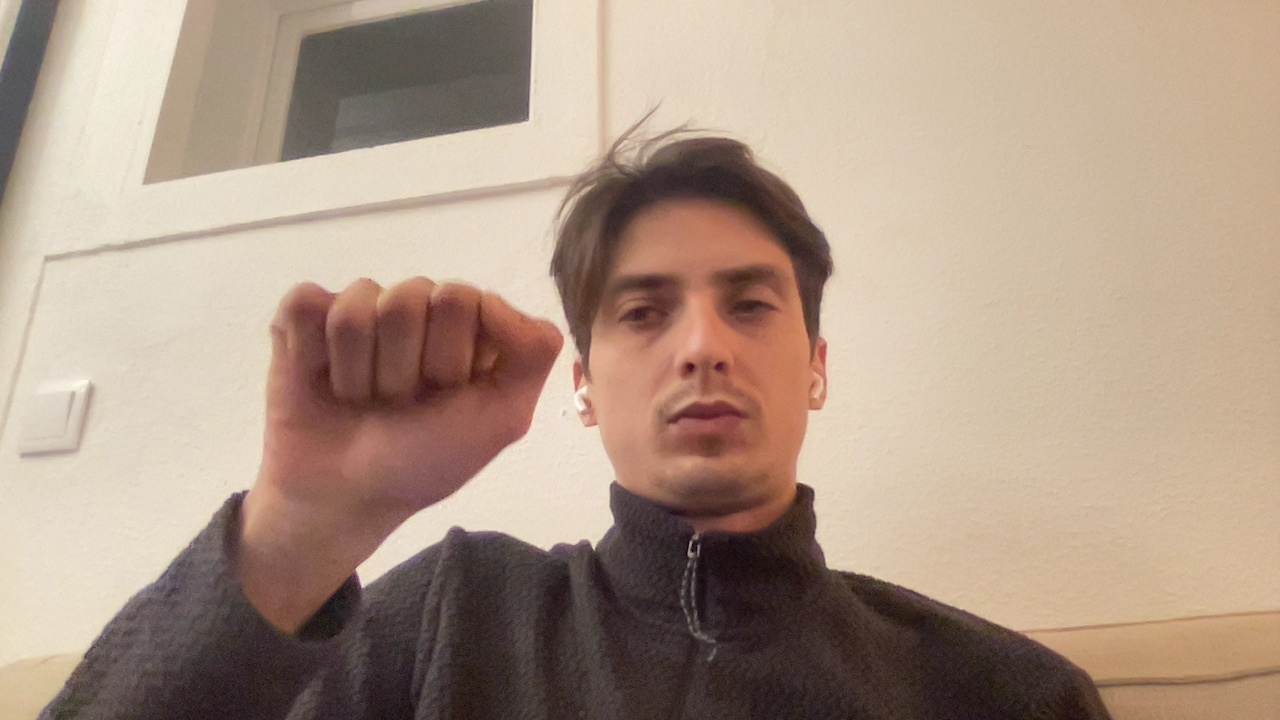Yes: (224, 238, 570, 560)
